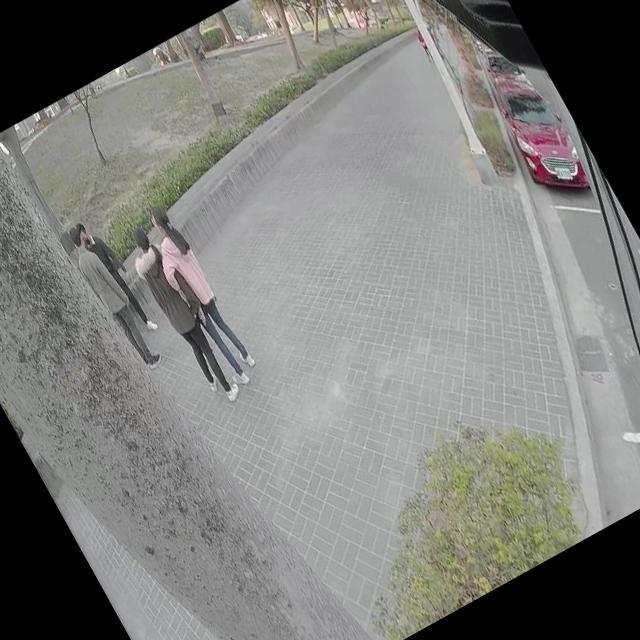person: (144, 202, 260, 384), (121, 226, 238, 405), (63, 224, 160, 373), (76, 217, 158, 337)
